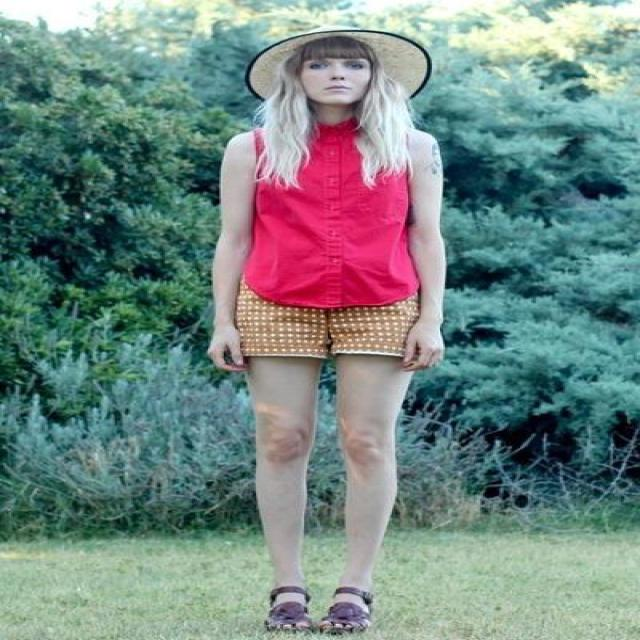hat: (244, 32, 426, 103)
shirt: (242, 119, 420, 312)
shoe: (266, 586, 371, 634)
shorts: (232, 298, 422, 370)
